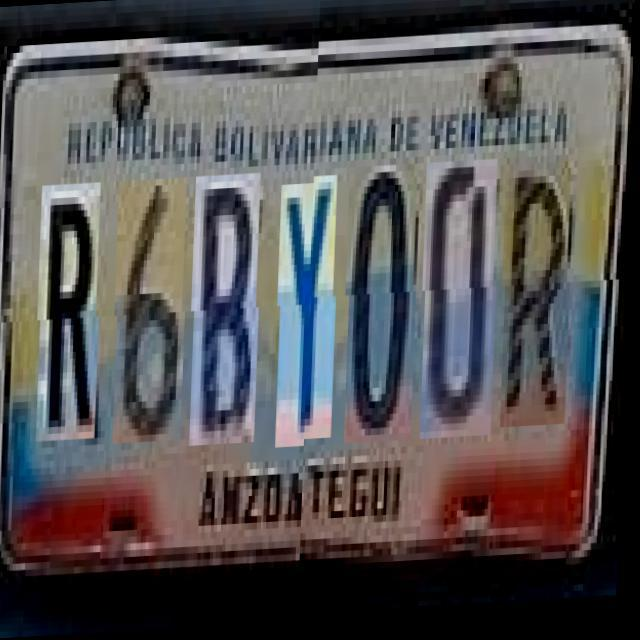0: (423, 172, 502, 451)
6: (116, 180, 191, 446)
B: (193, 176, 265, 449)
O: (347, 168, 422, 454)
R: (504, 168, 576, 441), (40, 183, 106, 442)
Y: (279, 186, 342, 451)
